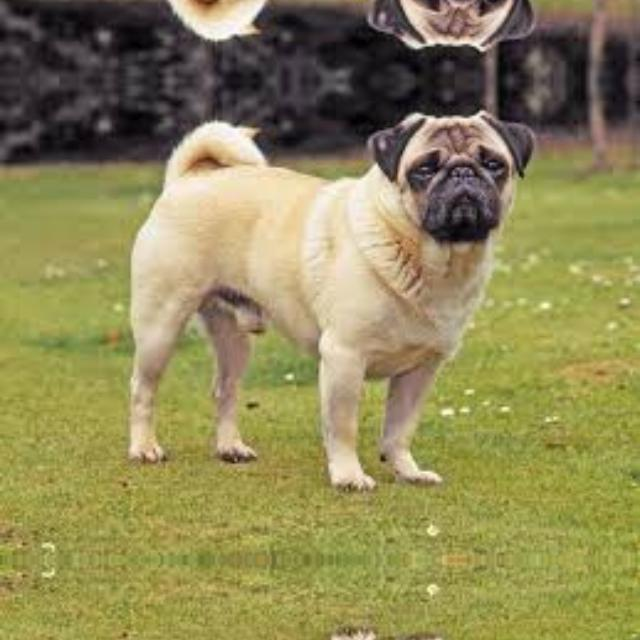dog: (121, 96, 544, 524), (120, 0, 543, 63), (120, 595, 543, 640)
